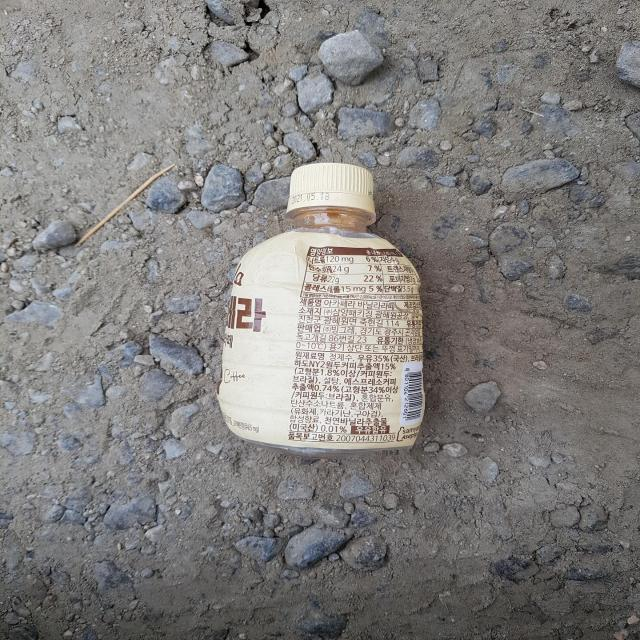plastic: (217, 162, 425, 458)
